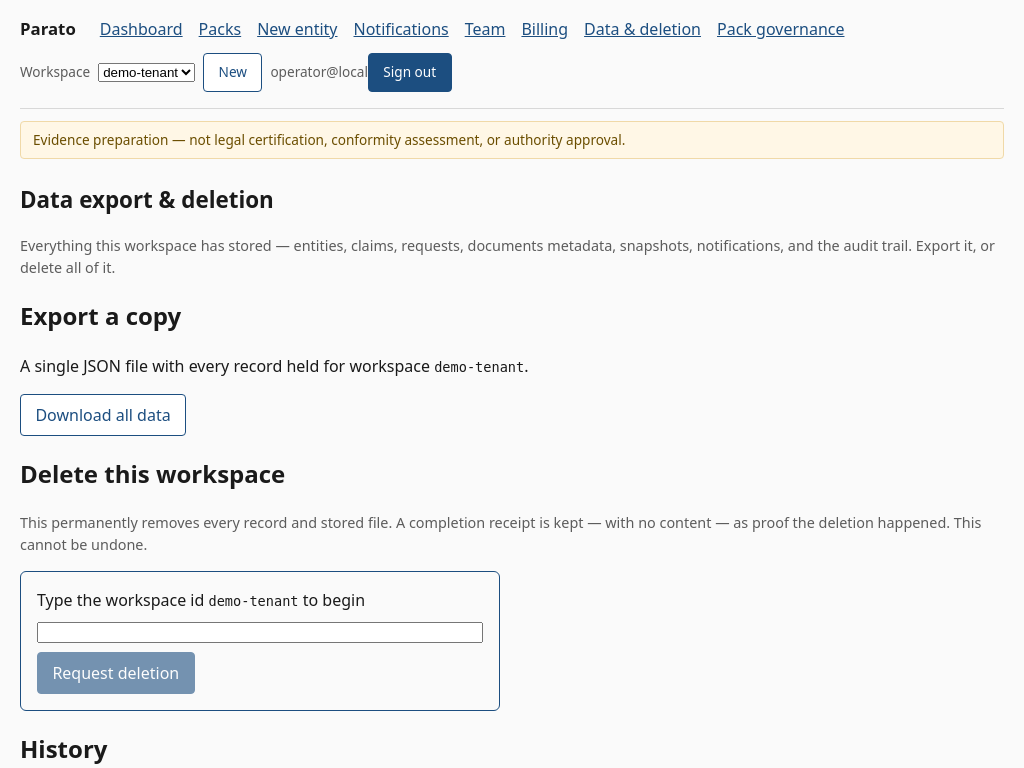
Test: DeletionPage › surfaces a confirmation-mismatch error from the API
Step 1. Type "demo-tenant" into the field labelled "Type the workspace id demo-tenant to begin" → (260, 632), box [37,622,483,643]
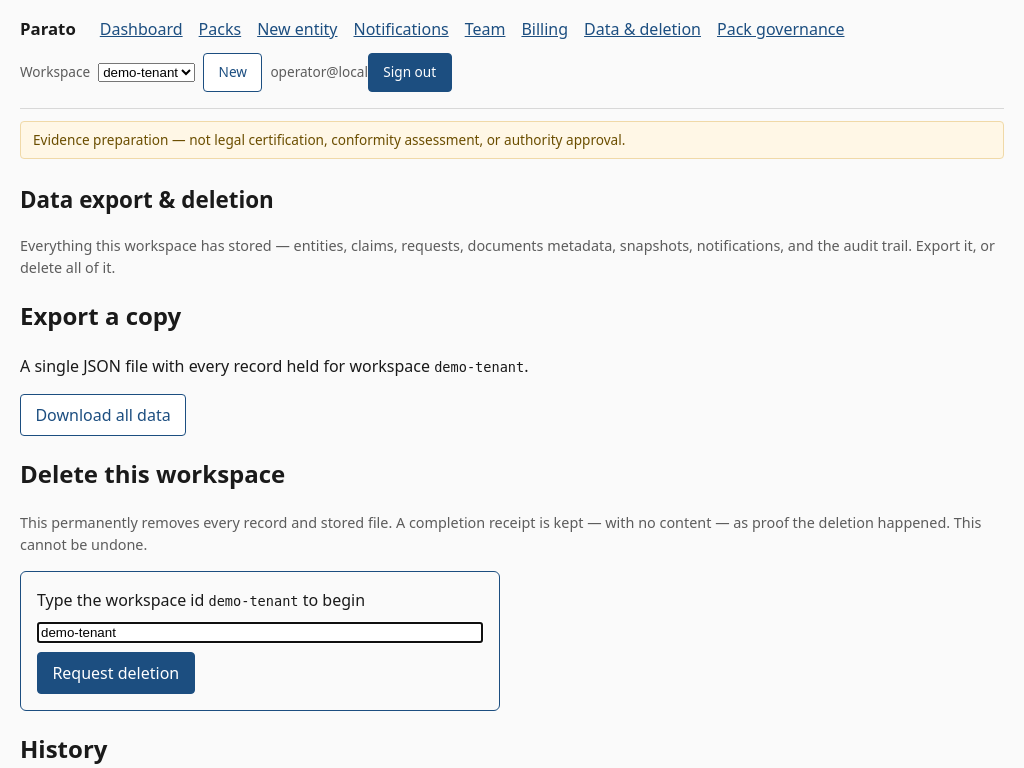
Step 2. Click the button "Request deletion" → (116, 673), box [37,652,195,694]
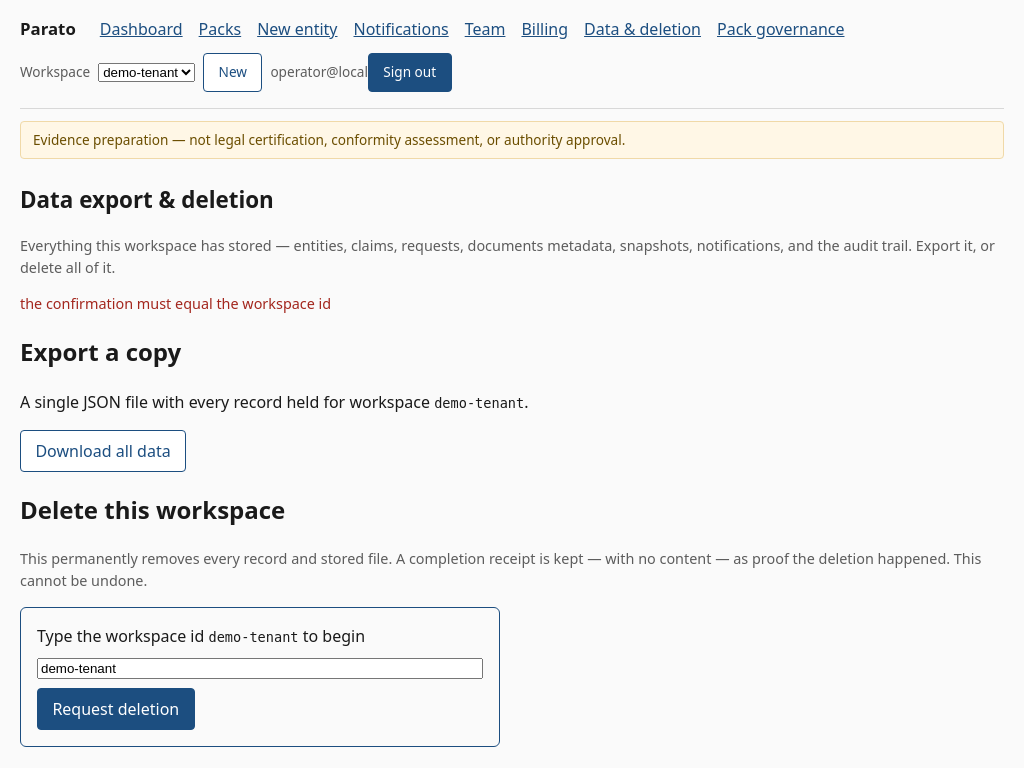
Now the text "the confirmation must equal the workspace id" is shown, box [20,294,331,313]
